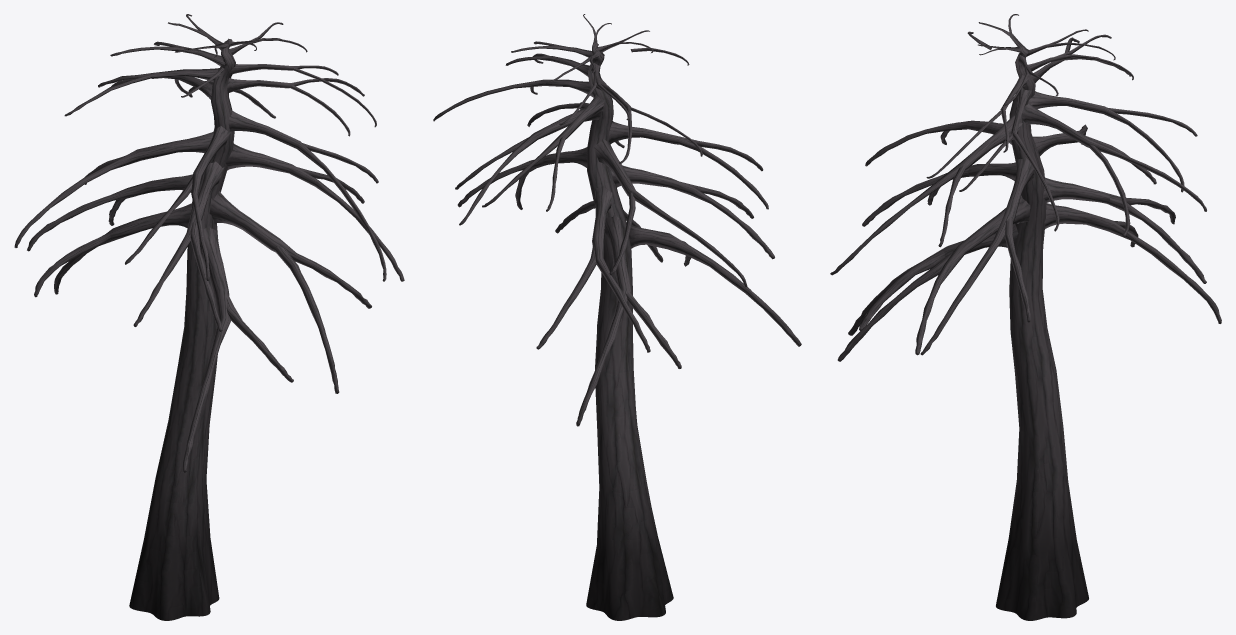
The model's file is DeadTree_4.glb.
The picture shows the model from 3 angles, left to right: view 1: azimuth 30°, elevation 25°; view 2: azimuth 150°, elevation 25°; view 3: azimuth 270°, elevation 25°; orthographic projection. The views are drawn at different scales.
Parts seen in each view (by area): view 1: DeadTree_4; view 2: DeadTree_4; view 3: DeadTree_4.
Boxes of the visible parts, x1,y1,x2,y2 form: DeadTree_4: (14,14,404,620); DeadTree_4: (433,14,801,620); DeadTree_4: (830,14,1221,620).
Size of the model in its own units: 7.96 by 12.77 by 7.73.
1 material, 1 textured.
